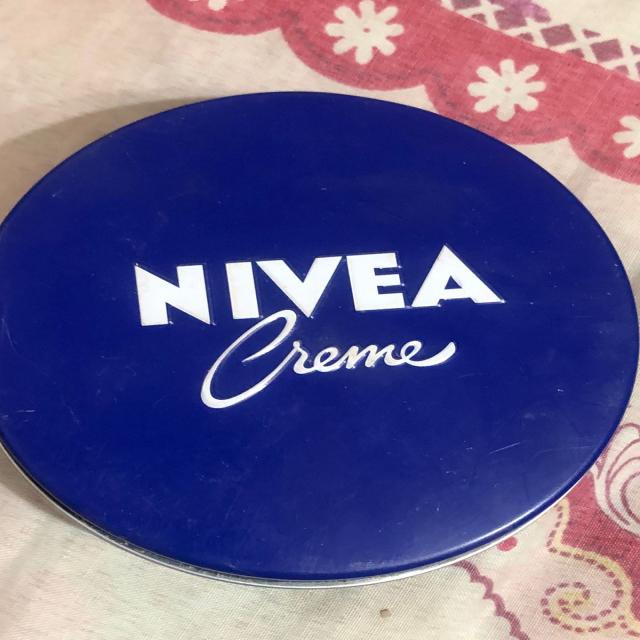lotion: (1, 77, 640, 610)
